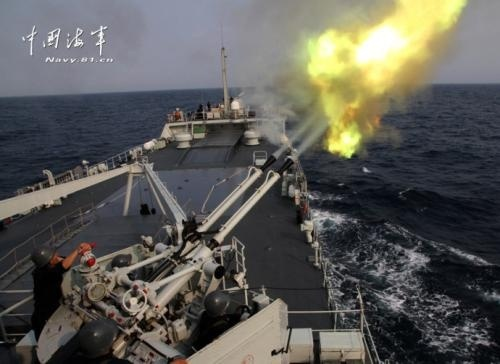fire: (303, 0, 462, 156)
